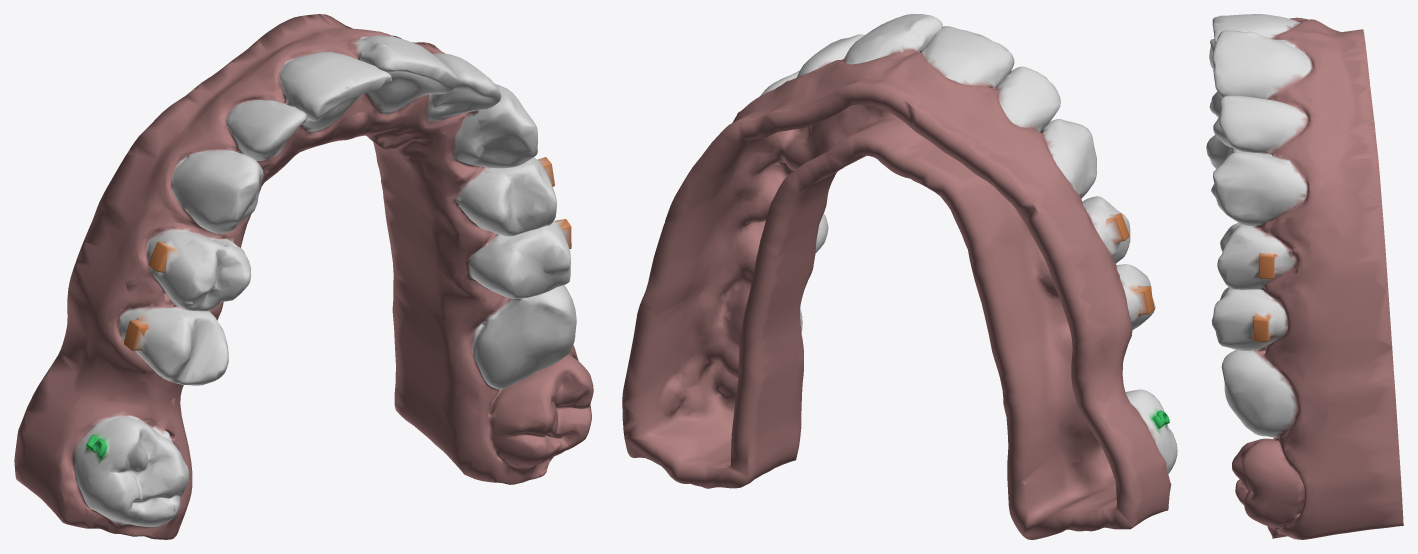
The model's file is upper-model-5.glb.
3 renders of one model, left to right at view 1: azimuth 30°, elevation 25°; view 2: azimuth 150°, elevation 25°; view 3: azimuth 270°, elevation 25°, orthographic. The views are drawn at different scales.
Visible parts, largest first — view 1: 5; view 2: 5; view 3: 5.
Part boxes in pixels (x1,y1,x2,y2): 5: [14, 14, 593, 539]; 5: [622, 14, 1177, 539]; 5: [1206, 14, 1403, 539].
Size of the model in its own units: 56.97 by 49.72 by 20.56.
